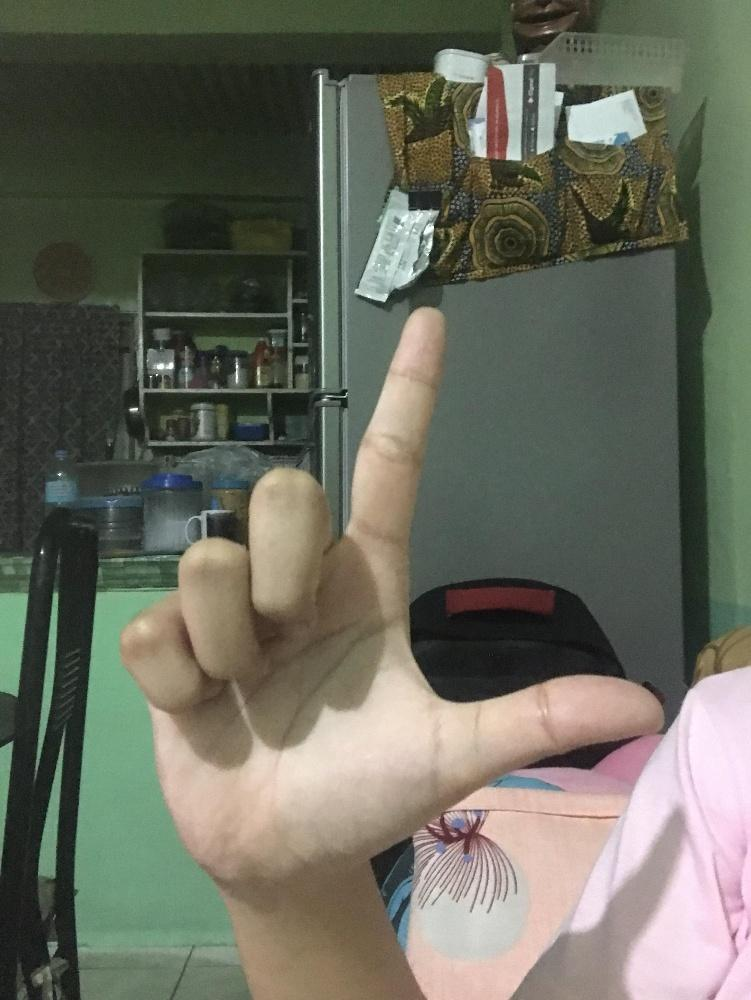l: (115, 297, 669, 878)
